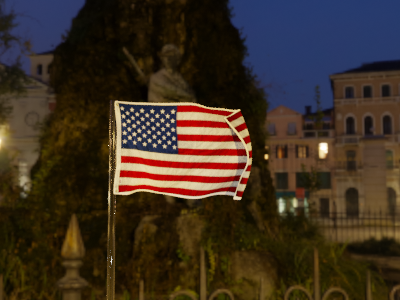America flag: (114, 100, 254, 201)
